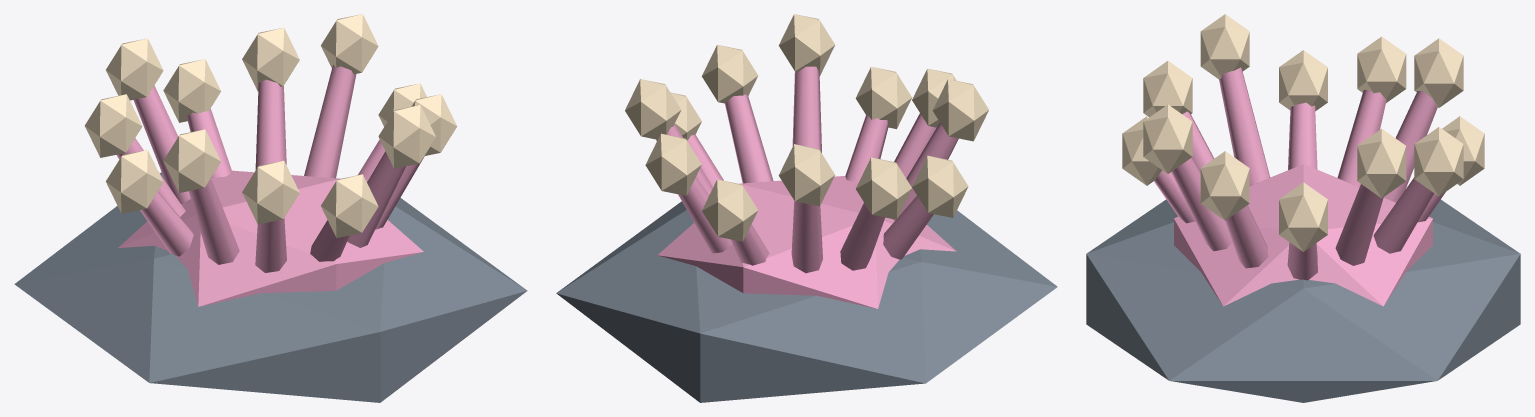
File: ocean-scenery-15.glb
3 renders of one model, left to right at view 1: azimuth 30°, elevation 25°; view 2: azimuth 150°, elevation 25°; view 3: azimuth 270°, elevation 25°, orthographic. The views are drawn at different scales.
Visible parts, largest first — view 1: Sea anemone garden; view 2: Sea anemone garden; view 3: Sea anemone garden.
Part boxes in pixels (bbox=[...]): Sea anemone garden: bbox=[14, 14, 527, 402]; Sea anemone garden: bbox=[556, 14, 1057, 402]; Sea anemone garden: bbox=[1086, 14, 1520, 402].
Size of the model in its own units: 1.05 by 0.7197 by 1.05.
